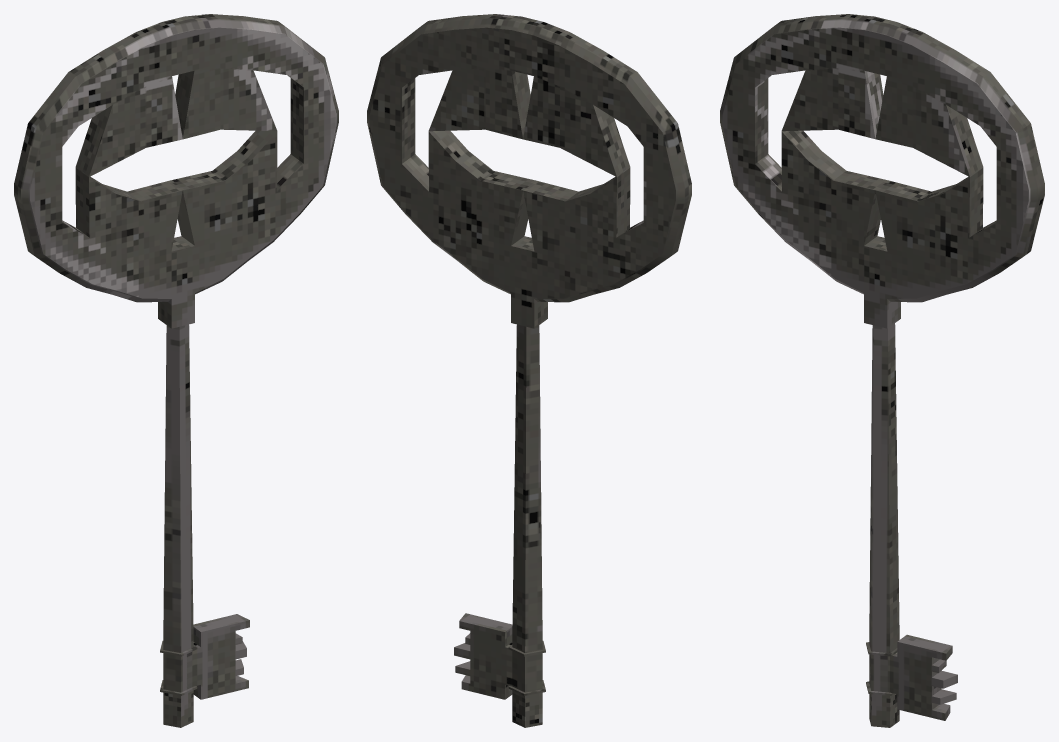
File: key02.glb
The picture shows the model from 3 angles, left to right: view 1: azimuth 30°, elevation 25°; view 2: azimuth 150°, elevation 25°; view 3: azimuth 330°, elevation 25°; orthographic projection.
Parts seen in each view (by area): view 1: chave_01_low; view 2: chave_01_low; view 3: chave_01_low.
Boxes of the visible parts, x1,y1,x2,y2 form: chave_01_low: (14,14,338,727); chave_01_low: (367,14,691,727); chave_01_low: (720,14,1044,727).
Size of the model in its own units: 0.0881 by 0.1865 by 0.00914.
1 material, 1 textured.
